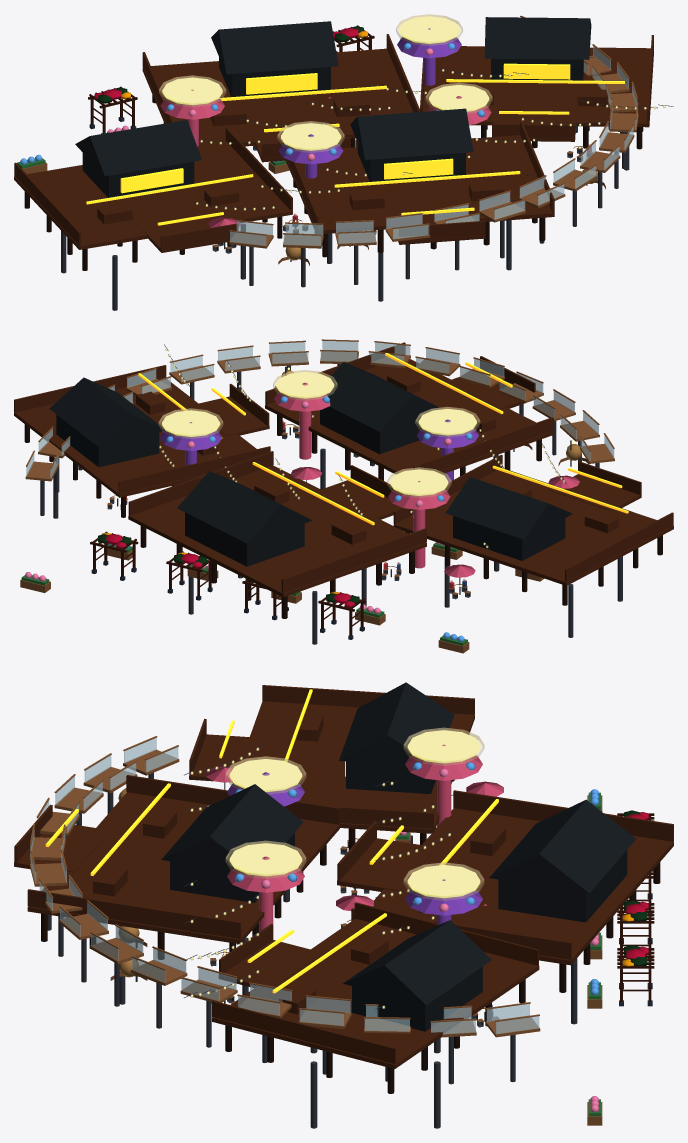
The model's file is ul_w4_02_horizon_coffee_pine_valley_ba_thang_tu.glb.
The picture shows the model from 3 angles, top to bottom: view 1: azimuth 30°, elevation 25°; view 2: azimuth 150°, elevation 25°; view 3: azimuth 270°, elevation 25°; orthographic projection. The views are drawn at different scales.
Parts seen in each view (by area): view 1: node_CauDat_Weathered_Pine_Deck, node_AFrame_Cafe_Shingle_Roof, node_horizon_teak_timber_deck, node_CloudDeck_Warm_StringLights, node_horizon_light_halo_blend, node_skywalk_glass_balustrade_blend, node_horizon_warm_string_light, node_horizon_stilt_charcoal_steel, node_supertree_tower_royal_violet, node_Stilt_Timber_Columns, node_supertree_tower_coral_pink, node_pergola_cedar_wood (+1 smaller); view 2: node_CauDat_Weathered_Pine_Deck, node_AFrame_Cafe_Shingle_Roof, node_horizon_teak_timber_deck, node_skywalk_glass_balustrade_blend, node_horizon_light_halo_blend, node_horizon_warm_string_light, node_horizon_stilt_charcoal_steel, node_supertree_tower_coral_pink, node_Stilt_Timber_Columns, node_CloudDeck_Warm_StringLights, node_pergola_cedar_wood, node_supertree_tower_royal_violet (+3 smaller); view 3: node_CauDat_Weathered_Pine_Deck, node_AFrame_Cafe_Shingle_Roof, node_horizon_teak_timber_deck, node_skywalk_glass_balustrade_blend, node_horizon_light_halo_blend, node_horizon_warm_string_light, node_horizon_stilt_charcoal_steel, node_supertree_tower_coral_pink, node_Stilt_Timber_Columns, node_CloudDeck_Warm_StringLights, node_supertree_tower_royal_violet, node_pergola_cedar_wood (+1 smaller).
Boxes of the visible parts, x1=… form: node_CauDat_Weathered_Pine_Deck: x1=14, y1=34, x2=653, y2=252; node_AFrame_Cafe_Shingle_Roof: x1=75, y1=17, x2=591, y2=197; node_horizon_teak_timber_deck: x1=22, y1=15, x2=638, y2=265; node_CloudDeck_Warm_StringLights: x1=86, y1=63, x2=624, y2=225; node_horizon_light_halo_blend: x1=159, y1=14, x2=665, y2=210; node_skywalk_glass_balustrade_blend: x1=230, y1=17, x2=637, y2=245; node_horizon_warm_string_light: x1=162, y1=16, x2=665, y2=221; node_horizon_stilt_charcoal_steel: x1=61, y1=57, x2=673, y2=310; node_supertree_tower_royal_violet: x1=278, y1=28, x2=461, y2=178; node_Stilt_Timber_Columns: x1=24, y1=95, x2=643, y2=270; node_supertree_tower_coral_pink: x1=160, y1=89, x2=491, y2=227; node_pergola_cedar_wood: x1=88, y1=25, x2=374, y2=133; node_CauDat_Weathered_Pine_Deck: x1=14, y1=342, x2=673, y2=597; node_AFrame_Cafe_Shingle_Roof: x1=49, y1=362, x2=572, y2=566; node_horizon_teak_timber_deck: x1=20, y1=339, x2=614, y2=653; node_skywalk_glass_balustrade_blend: x1=26, y1=340, x2=614, y2=478; node_horizon_light_halo_blend: x1=158, y1=348, x2=564, y2=548; node_horizon_warm_string_light: x1=116, y1=349, x2=575, y2=586; node_horizon_stilt_charcoal_steel: x1=40, y1=344, x2=622, y2=644; node_supertree_tower_coral_pink: x1=274, y1=382, x2=579, y2=577; node_Stilt_Timber_Columns: x1=24, y1=414, x2=662, y2=618; node_CloudDeck_Warm_StringLights: x1=138, y1=353, x2=628, y2=525; node_pergola_cedar_wood: x1=90, y1=531, x2=366, y2=636; node_supertree_tower_royal_violet: x1=160, y1=419, x2=478, y2=482; node_CauDat_Weathered_Pine_Deck: x1=14, y1=685, x2=673, y2=1068; node_AFrame_Cafe_Shingle_Roof: x1=161, y1=682, x2=636, y2=1031; node_horizon_teak_timber_deck: x1=29, y1=736, x2=602, y2=1125; node_skywalk_glass_balustrade_blend: x1=30, y1=738, x2=539, y2=1033; node_horizon_light_halo_blend: x1=190, y1=727, x2=484, y2=1008; node_horizon_warm_string_light: x1=191, y1=730, x2=485, y2=1011; node_horizon_stilt_charcoal_steel: x1=47, y1=744, x2=577, y2=1128; node_supertree_tower_coral_pink: x1=206, y1=744, x2=503, y2=931; node_Stilt_Timber_Columns: x1=41, y1=779, x2=660, y2=1093; node_CloudDeck_Warm_StringLights: x1=45, y1=689, x2=498, y2=993; node_supertree_tower_royal_violet: x1=227, y1=772, x2=482, y2=925; node_pergola_cedar_wood: x1=617, y1=813, x2=654, y2=1001.
Size of the model in its own units: 63.83 by 15.15 by 48.19.
